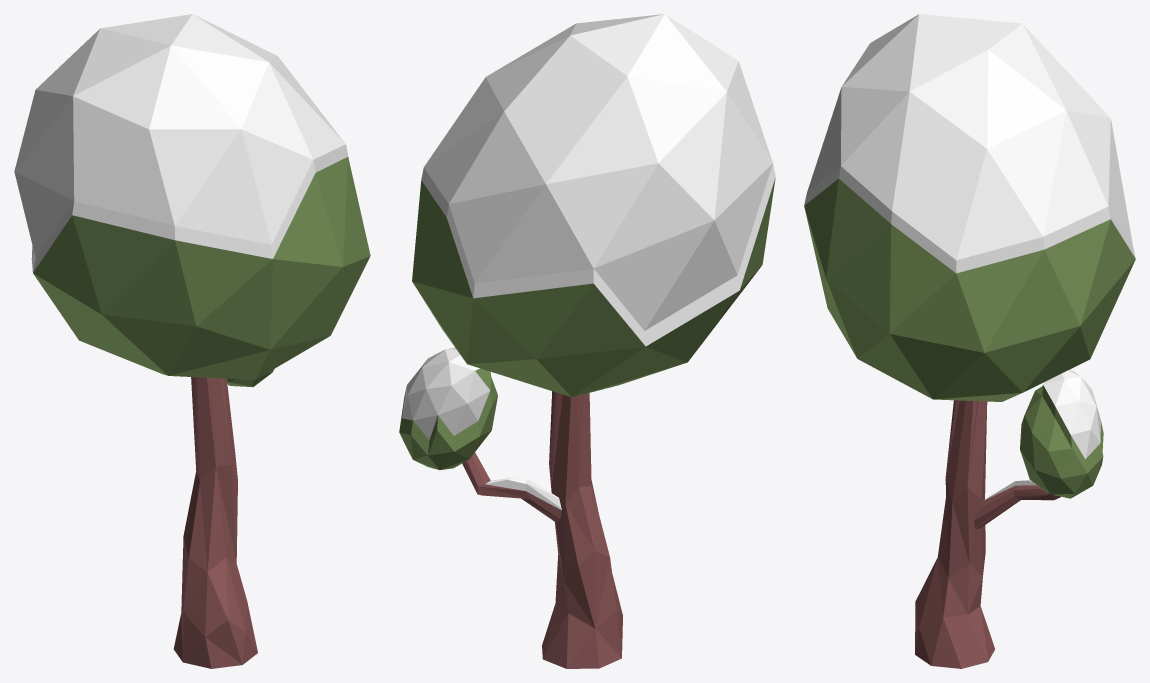
File: Poplar Tree_5 Snow.fbx
The picture shows the model from 3 angles, left to right: view 1: azimuth 30°, elevation 25°; view 2: azimuth 150°, elevation 25°; view 3: azimuth 270°, elevation 25°; orthographic projection. The views are drawn at different scales.
Parts seen in each view (by area): view 1: Poplar Tree_5 Snow; view 2: Poplar Tree_5 Snow; view 3: Poplar Tree_5 Snow.
Part boxes in pixels (box(x1,y1,x2,y2)): Poplar Tree_5 Snow: box(14, 14, 370, 668); Poplar Tree_5 Snow: box(399, 14, 775, 668); Poplar Tree_5 Snow: box(804, 14, 1135, 668).
Bounding box in the file's own units: 3.22 × 6.3 × 3.11.
